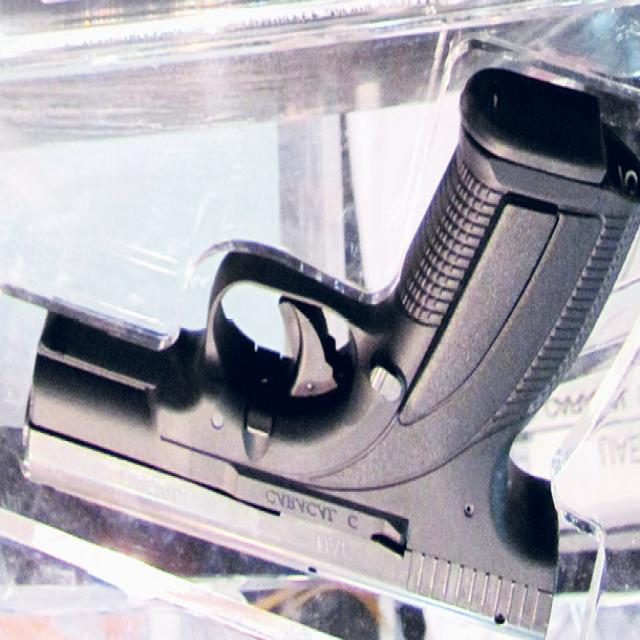Gun: (11, 102, 640, 609)
